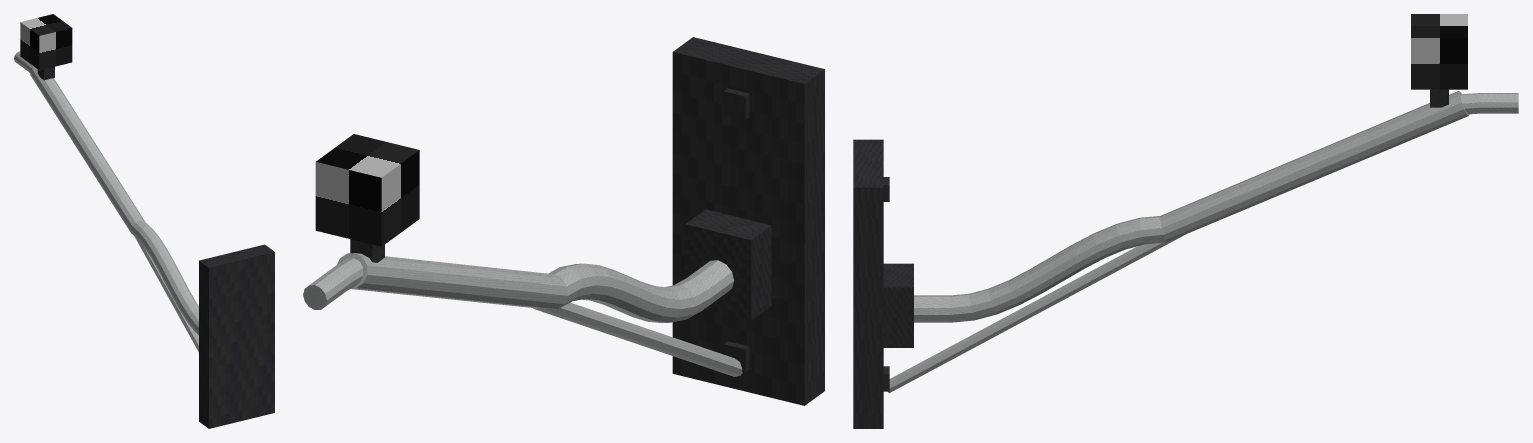
The model's file is arm_2_straight.obj.
3 views of the same model, side by side, from view 1: azimuth 30°, elevation 25°; view 2: azimuth 150°, elevation 25°; view 3: azimuth 270°, elevation 25° (orthographic). The views are drawn at different scales.
Parts seen in each view (by area): view 1: pole_light_mount_2_straight; view 2: pole_light_mount_2_straight; view 3: pole_light_mount_2_straight.
Boxes of the visible parts, x1,y1,x2,y2 form: pole_light_mount_2_straight: (14,14,274,428); pole_light_mount_2_straight: (303,37,824,405); pole_light_mount_2_straight: (853,14,1518,428).
Size of the model in its own units: 0.375 by 1.37 by 2.19.
